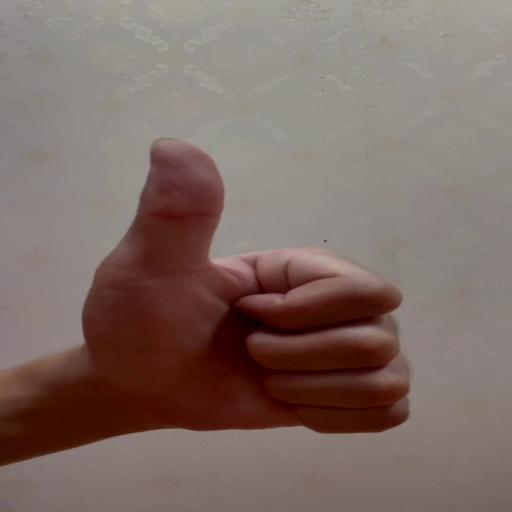thumbs_up: (82, 135, 415, 436)
